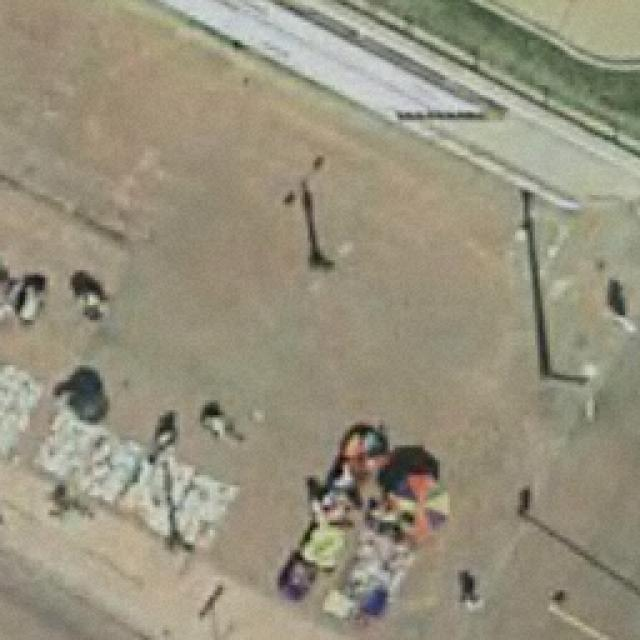vendedor_ambulante: (385, 467, 455, 540)
